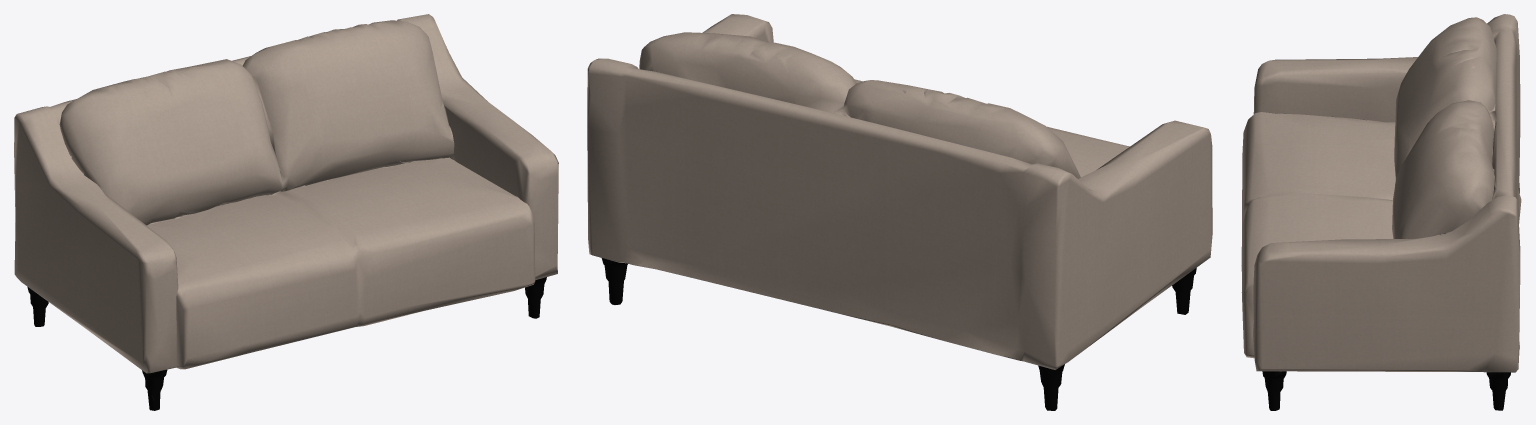
The picture shows the model from 3 angles, left to right: view 1: azimuth 30°, elevation 25°; view 2: azimuth 150°, elevation 25°; view 3: azimuth 270°, elevation 25°; orthographic projection. The views are drawn at different scales.
Visible parts, largest first — view 1: ASY_ART_30618500_S01_NV01; view 2: ASY_ART_30618500_S01_NV01; view 3: ASY_ART_30618500_S01_NV01.
Boxes of the visible parts, <box> form: ASY_ART_30618500_S01_NV01: <box>14,14,558,410</box>; ASY_ART_30618500_S01_NV01: <box>587,14,1212,410</box>; ASY_ART_30618500_S01_NV01: <box>1241,14,1521,410</box>.
Size of the model in its own units: 1.43 by 0.7824 by 0.8481.
1 material, 1 textured.
